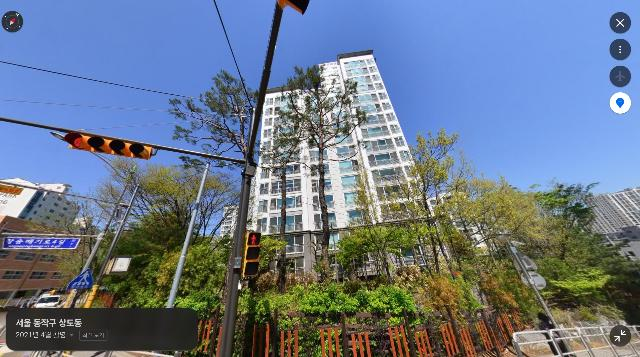other: (167, 68, 307, 295), (260, 64, 373, 291), (88, 159, 218, 309), (388, 127, 472, 287), (448, 152, 534, 293), (342, 224, 403, 318)
